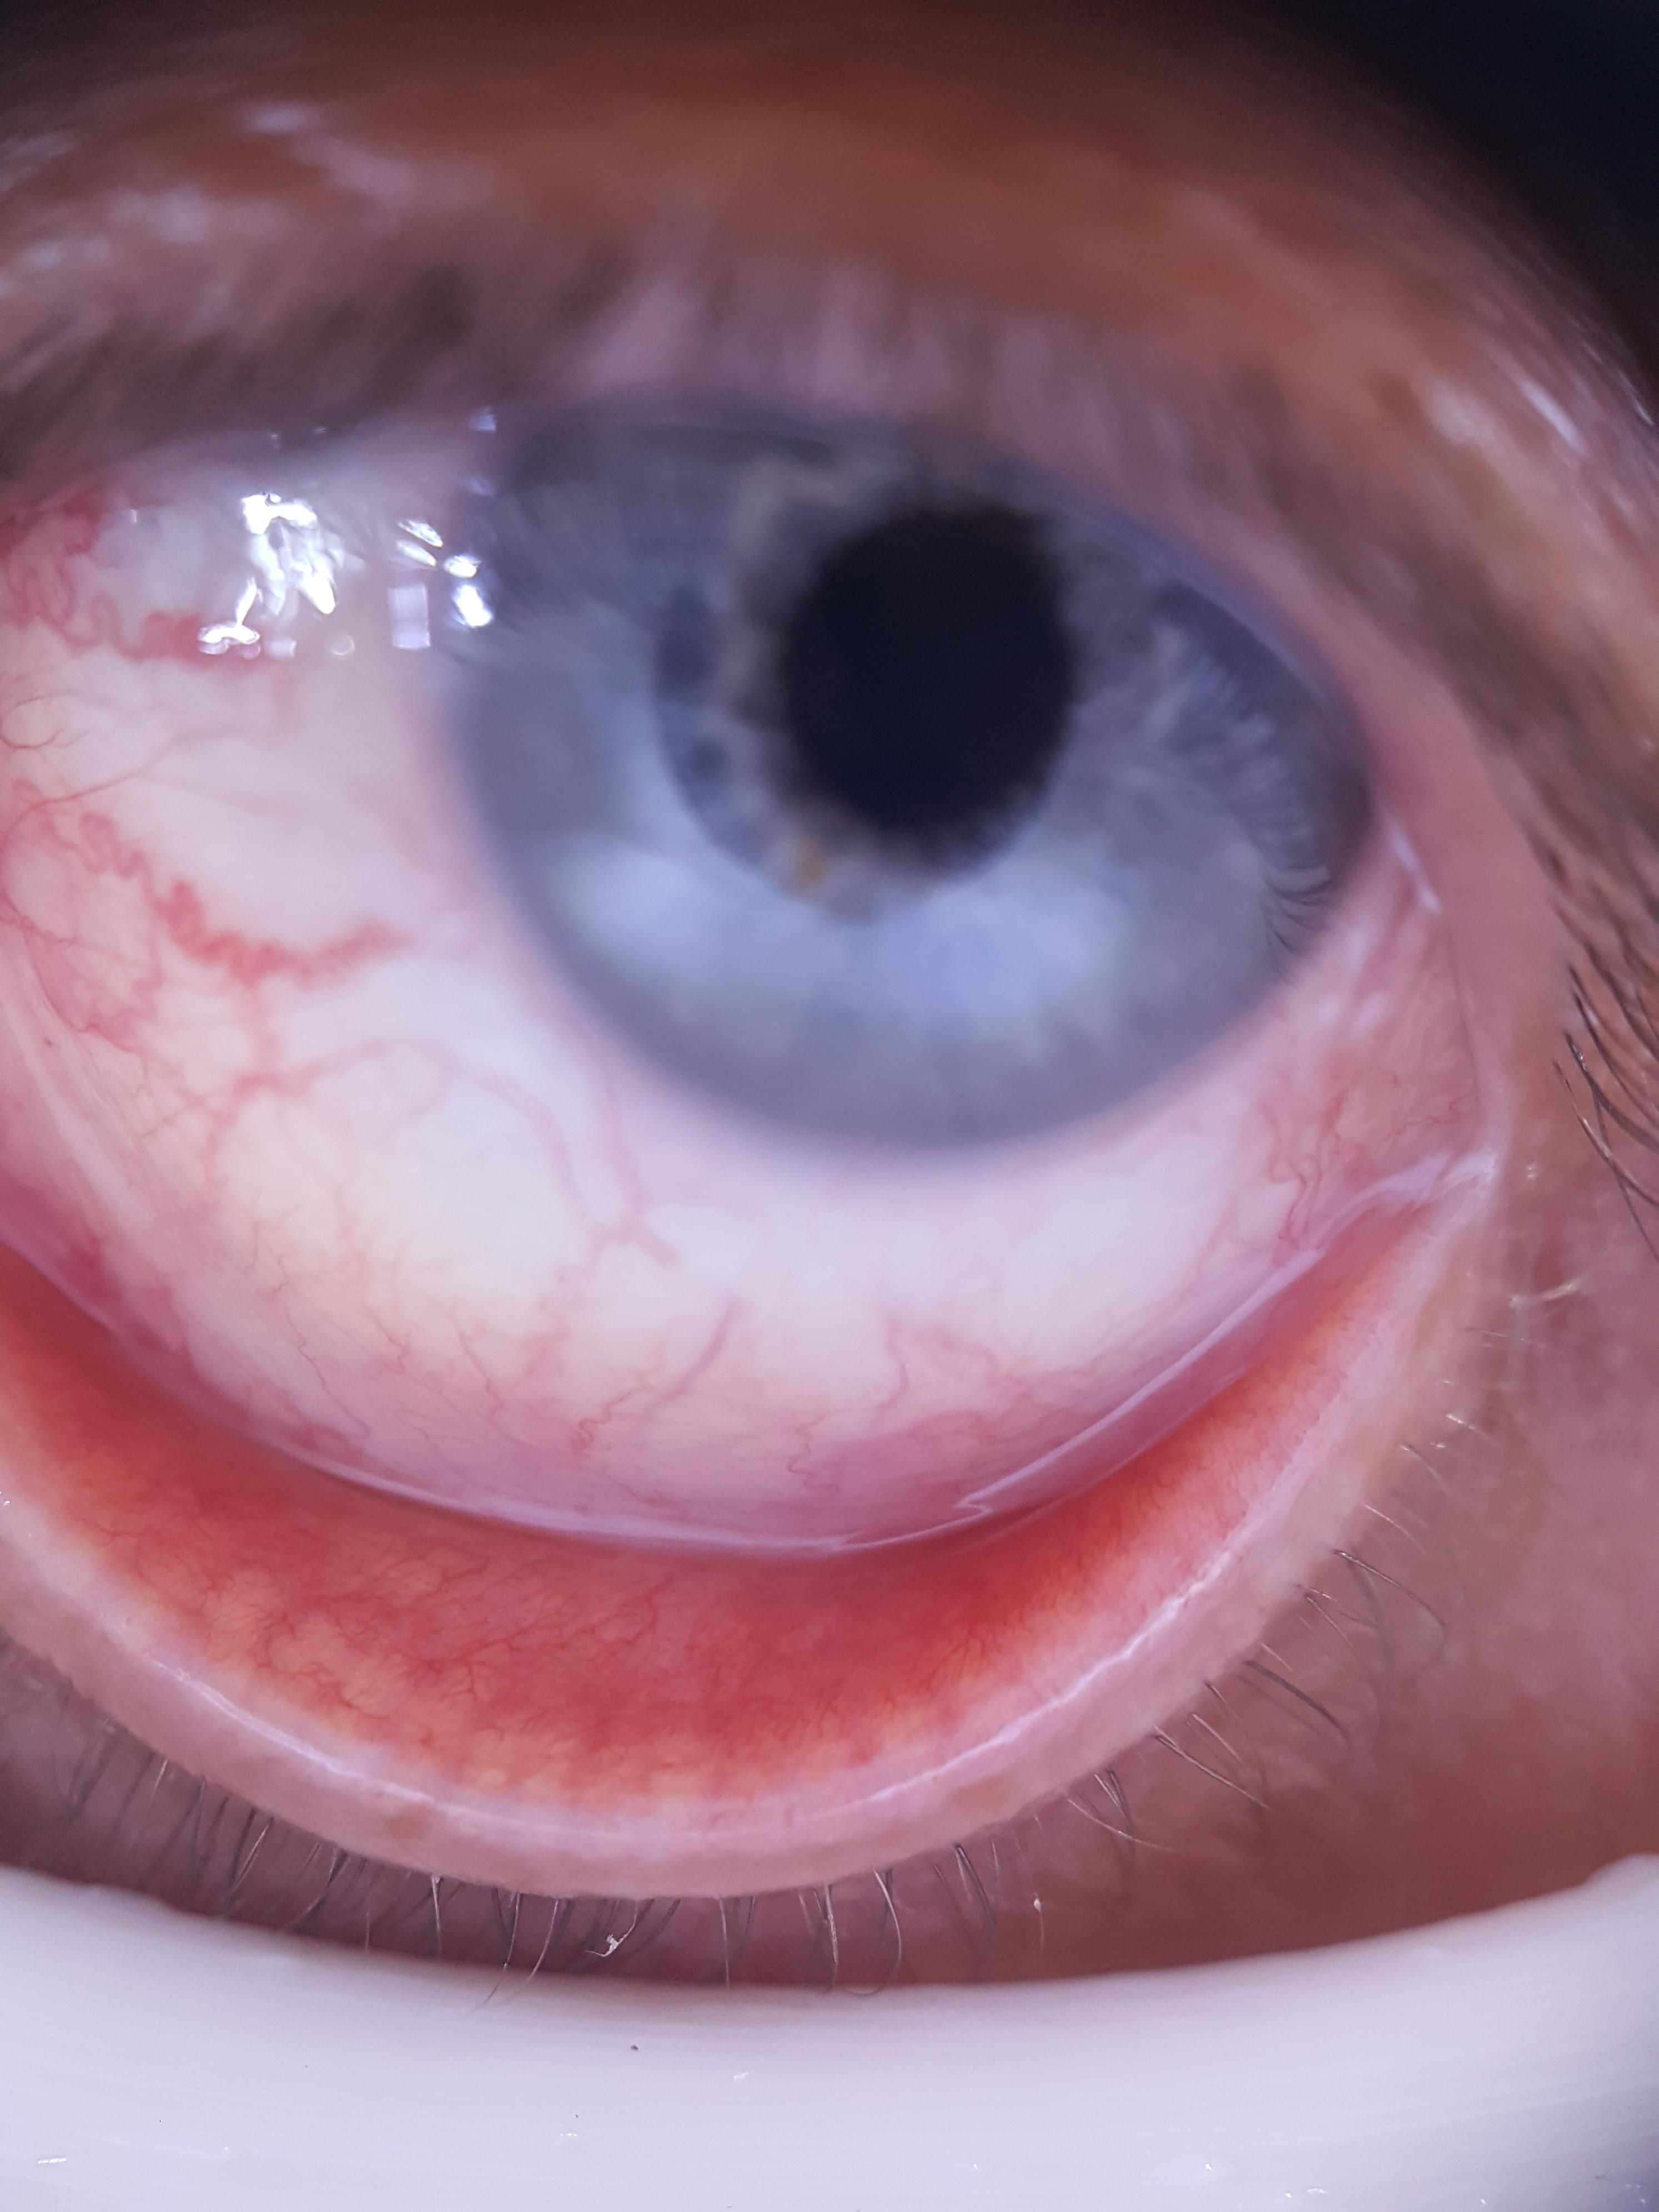palpebral: (0, 1249, 1300, 1787)
